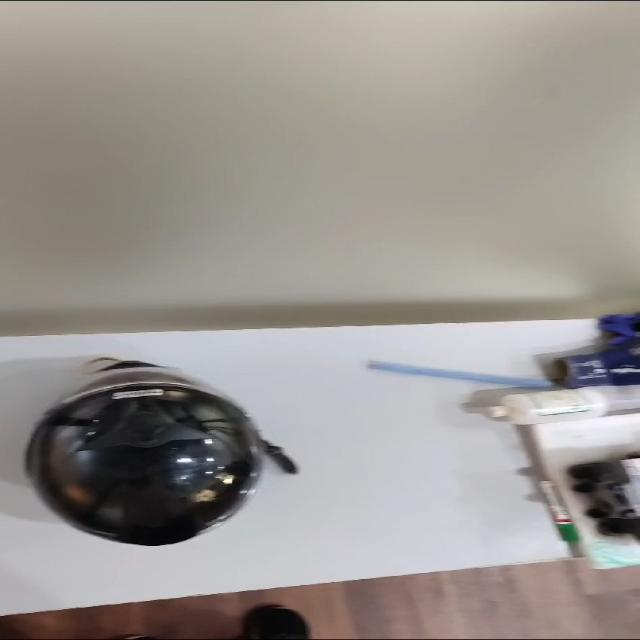helmet: (26, 358, 296, 546)
